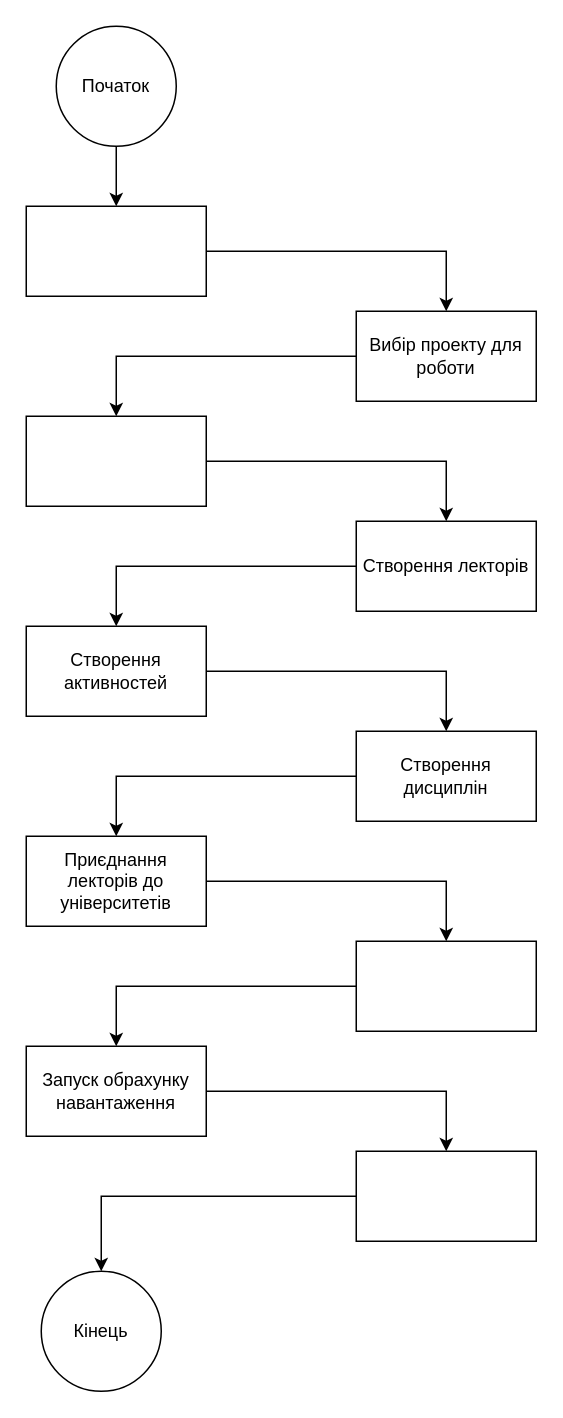
Some shapes in this 563 by 1418 pixel diagram are drawn without their labels. Here are the shapes that lost their labels. From the top down, the box of each, then its label:
(25, 205, 206, 296): Створення проекту
(25, 415, 206, 506): Створення університетів
(355, 940, 536, 1031): Приєднання лекторів до активностей та дисциплін
(355, 1150, 536, 1241): Експорт даних
